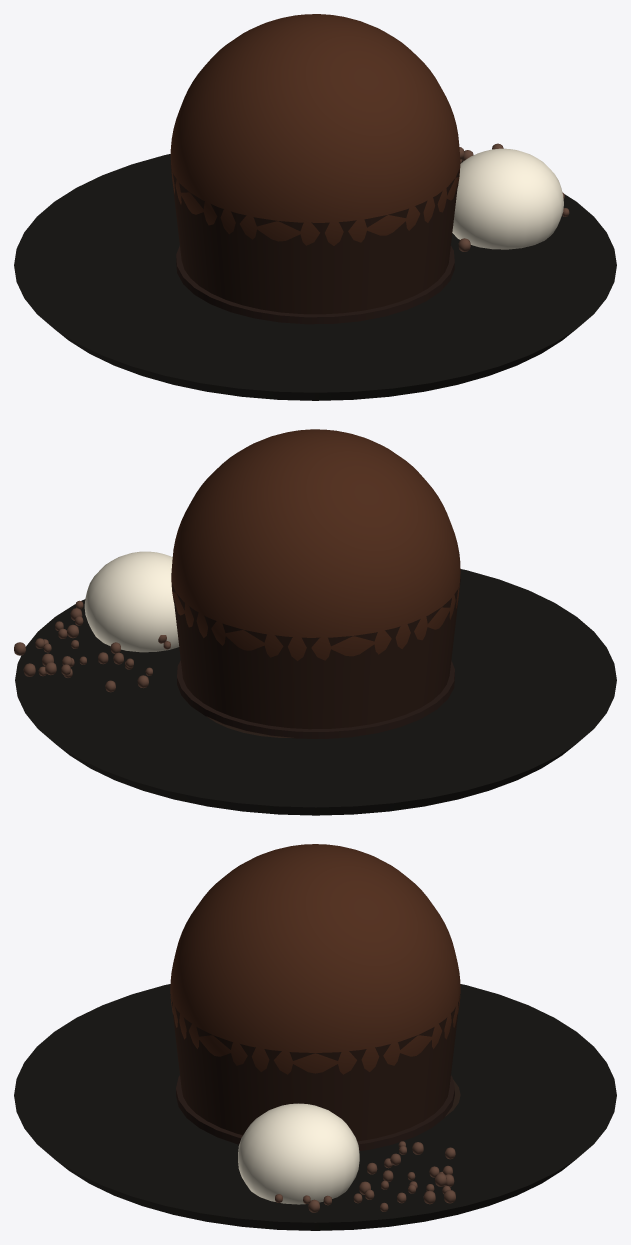
Rendered from souffle-chocolat.glb.
3 views of the same model, one above another, from view 1: azimuth 30°, elevation 25°; view 2: azimuth 150°, elevation 25°; view 3: azimuth 270°, elevation 25° (orthographic).
Bounding box in the file's own units: 2.2 × 1.05 × 2.2.
